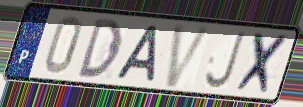0: (42, 14, 84, 77)
A: (112, 24, 161, 84)
D: (76, 17, 125, 80)
J: (202, 29, 247, 91)
V: (162, 22, 215, 89)
X: (232, 30, 293, 98)
